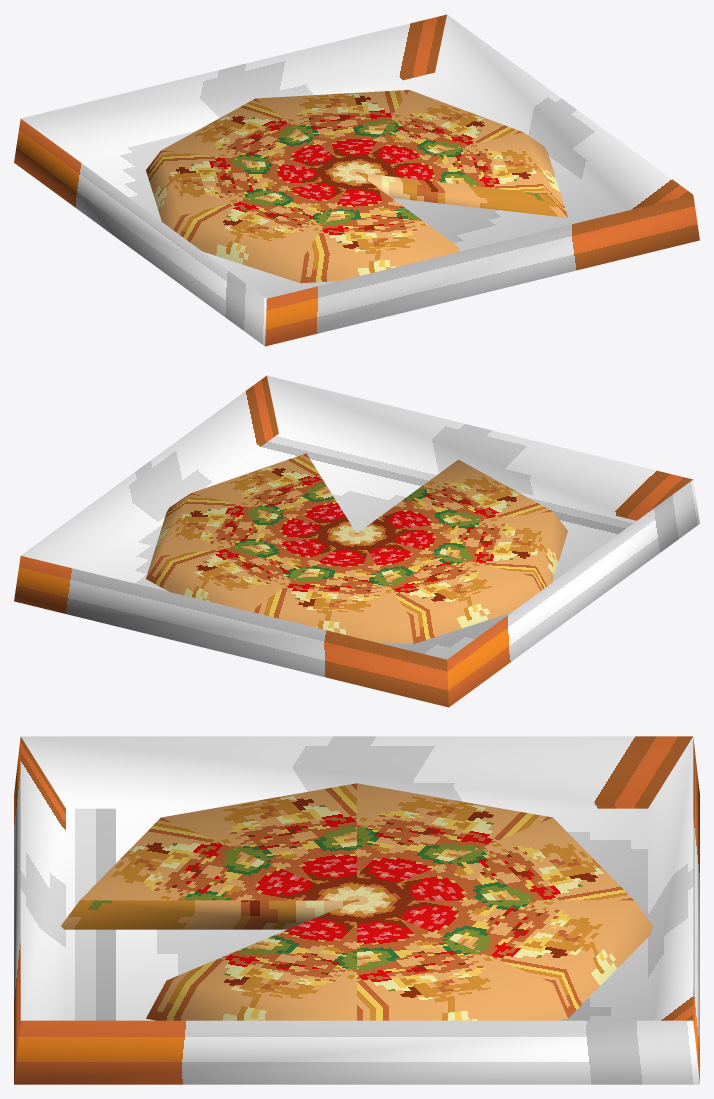
The picture shows the model from 3 angles, top to bottom: view 1: azimuth 30°, elevation 25°; view 2: azimuth 150°, elevation 25°; view 3: azimuth 270°, elevation 25°; orthographic projection. The views are drawn at different scales.
Visible parts, largest first — view 1: 3392imig18_14; view 2: 3392imig18_14; view 3: 3392imig18_14.
Part boxes in pixels (x1,y1,x2,y2): 3392imig18_14: [14, 14, 699, 346]; 3392imig18_14: [14, 375, 699, 707]; 3392imig18_14: [14, 736, 699, 1084].
Size of the model in its own units: 0.855 by 0.0845 by 0.855.
2 materials, 2 textured.
